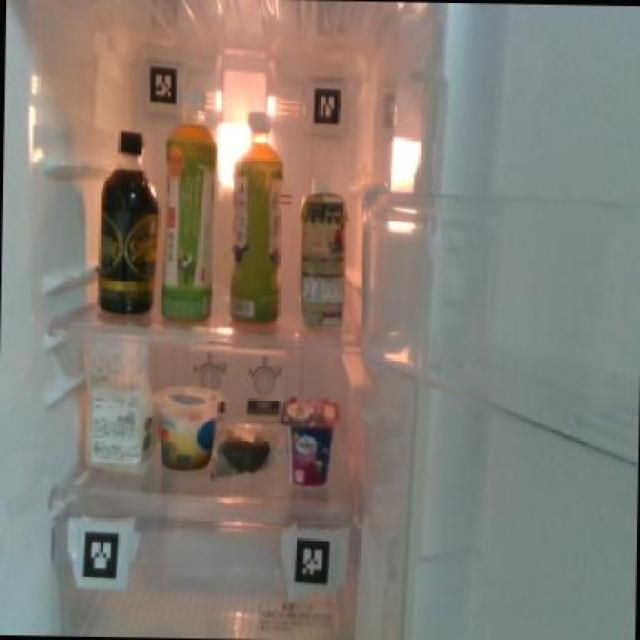coffee: (93, 123, 159, 319)
pudding: (152, 377, 212, 468)
rice_ball: (215, 422, 273, 478)
sandwich: (78, 333, 151, 469)
smoothie: (295, 168, 347, 334)
tea_a: (224, 107, 284, 321)
tea_i: (157, 109, 218, 322)
yogurt: (277, 392, 338, 485)
